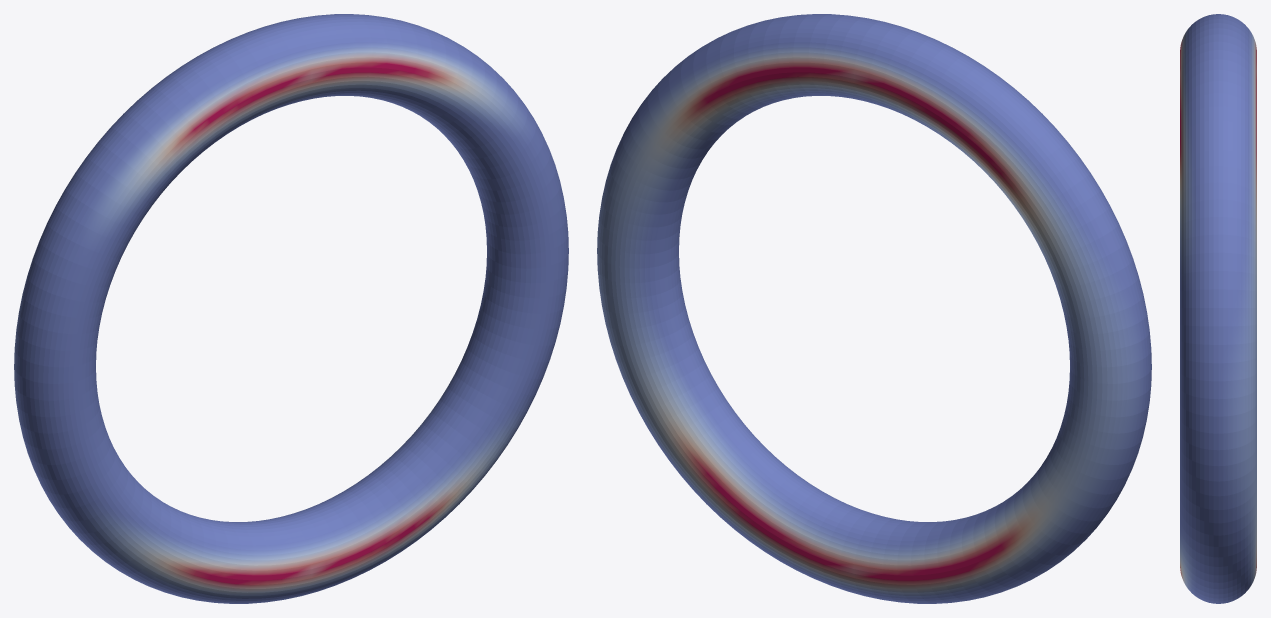
3 views of the same model, side by side, from view 1: azimuth 30°, elevation 25°; view 2: azimuth 150°, elevation 25°; view 3: azimuth 270°, elevation 25° (orthographic). The views are drawn at different scales.
Parts seen in each view (by area): view 1: world; view 2: world; view 3: world.
Part boxes in pixels (left/top/right/bottom): world: left=14, top=14, right=568, bottom=603; world: left=597, top=14, right=1151, bottom=603; world: left=1180, top=14, right=1256, bottom=603.
Size of the model in its own units: 21.47 by 21.47 by 2.79.
